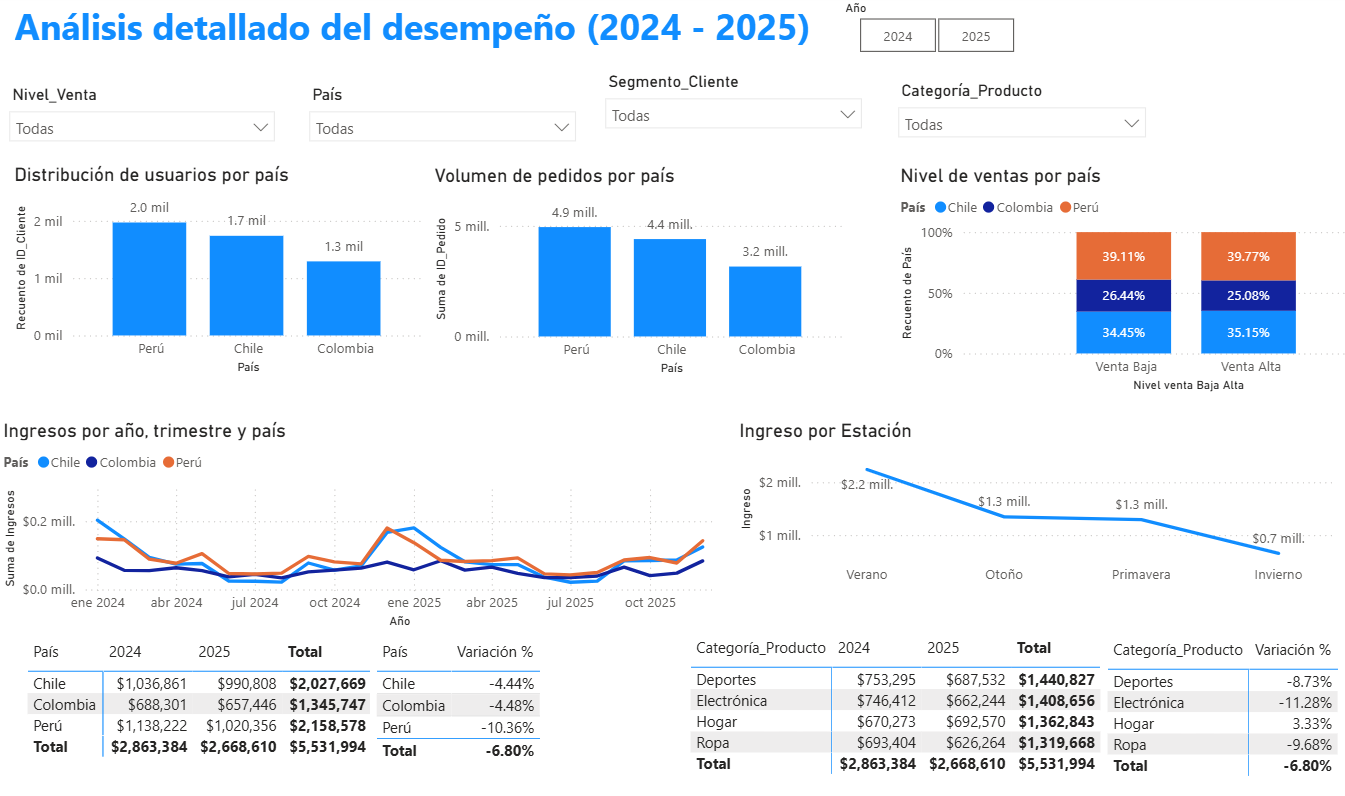

The dashboard page shown, as its layout file describes it:
{"tool":"powerbi","page":{"name":"Vista Detalle🔎","canvas":[1280,720],"ordinal":1},"visuals":[{"type":"lineChart","title":"Ingresos por año, trimestre y país","fields":{"Category":["Andes_Retail_Group_2024_2025.Fecha_Pedido.Variación.Jerarquía de fechas.Año","Andes_Retail_Group_2024_2025.Fecha_Pedido.Variación.Jerarquía de fechas.Mes"],"Y":["Sum(Andes_Retail_Group_2024_2025.Ingresos)"],"Series":["Andes_Retail_Group_2024_2025.País"]},"box":[0,379.7,659.1,191.6],"z":0},{"type":"textbox","box":[9.7,0,872.5,72.9],"z":1},{"type":"clusteredColumnChart","title":"Distribución de usuarios por país","fields":{"Category":["Andes_Retail_Group_2024_2025.País"],"Y":["CountNonNull(Andes_Retail_Group_2024_2025.ID_Cliente)"]},"box":[9.9,150.4,376.1,193.4],"z":2},{"type":"clusteredColumnChart","title":"Volumen de pedidos por país","fields":{"Category":["Andes_Retail_Group_2024_2025.País"],"Y":["Sum(Andes_Retail_Group_2024_2025.ID_Pedido)"]},"box":[386,151.3,376.1,193.4],"z":3},{"type":"hundredPercentStackedColumnChart","title":"Nivel de ventas por país","fields":{"Category":["Andes_Retail_Group_2024_2025.Nivel_Venta"],"Y":["CountNonNull(Andes_Retail_Group_2024_2025.País)"],"Series":["Andes_Retail_Group_2024_2025.País"]},"box":[803.3,151.3,469.3,208.7],"z":4},{"type":"slicer","fields":{"Values":["Andes_Retail_Group_2024_2025.País"]},"box":[268.7,76.1,258.8,65.4],"z":5},{"type":"slicer","fields":{"Values":["Andes_Retail_Group_2024_2025.Segmento_Cliente"]},"box":[533.7,64.5,249.9,69.9],"z":6},{"type":"slicer","fields":{"Values":["Andes_Retail_Group_2024_2025.Nivel_Venta"]},"box":[0,76.1,257.9,58.2],"z":7},{"type":"slicer","fields":{"Values":["Andes_Retail_Group_2024_2025.Categoría_Producto"]},"box":[796.1,72.5,241.8,58.2],"z":8},{"type":"slicer","fields":{"Values":["Andes_Retail_Group_2024_2025.Fecha_Pedido.Variación.Jerarquía de fechas.Año"]},"box":[746,0,188.1,58.2],"z":9},{"type":"pivotTable","fields":{"Columns":["Andes_Retail_Group_2024_2025.Año"],"Rows":["Andes_Retail_Group_2024_2025.País"],"Values":["Medidas.Ingreso"]},"box":[21.5,573.1,356.4,146.9],"z":10},{"type":"tableEx","fields":{"Values":["Andes_Retail_Group_2024_2025.País","Medidas.Variación %"]},"box":[333.1,573.1,173.7,134.3],"z":11},{"type":"pivotTable","fields":{"Columns":["Andes_Retail_Group_2024_2025.Año"],"Values":["Medidas.Ingreso"],"Rows":["Andes_Retail_Group_2024_2025.Categoría_Producto"]},"box":[615.2,569.6,389.6,150.4],"z":12},{"type":"pivotTable","fields":{"Rows":["Andes_Retail_Group_2024_2025.Categoría_Producto"],"Values":["Medidas.Variación %"]},"box":[988.7,571.3,238.2,136.1],"z":13},{"type":"lineChart","fields":{"Y":["Medidas.Ingreso"],"Category":["Andes_Retail_Group_2024_2025.Estación"]},"box":[659.1,379.7,541.8,157.6],"z":14}]}

Visuals, with their boxes on the page's 1280x720 design canvas (x1, y1, x2, y2). These are canvas units, not pixel positions in the 1345x796 screenshot, which may show the page scaled, cropped or inside an application window:
"Ingresos por año, trimestre y país" lineChart: (left=0, top=380, right=659, bottom=571)
textbox: (left=10, top=0, right=882, bottom=73)
"Distribución de usuarios por país" clusteredColumnChart: (left=10, top=150, right=386, bottom=344)
"Volumen de pedidos por país" clusteredColumnChart: (left=386, top=151, right=762, bottom=345)
"Nivel de ventas por país" hundredPercentStackedColumnChart: (left=803, top=151, right=1273, bottom=360)
slicer - Andes_Retail_Group_2024_2025.País: (left=269, top=76, right=528, bottom=142)
slicer - Andes_Retail_Group_2024_2025.Segmento_Cliente: (left=534, top=64, right=784, bottom=134)
slicer - Andes_Retail_Group_2024_2025.Nivel_Venta: (left=0, top=76, right=258, bottom=134)
slicer - Andes_Retail_Group_2024_2025.Categoría_Producto: (left=796, top=72, right=1038, bottom=131)
slicer - Andes_Retail_Group_2024_2025.Fecha_Pedido.Variación.Jerarquía de fechas.Año: (left=746, top=0, right=934, bottom=58)
pivotTable - Andes_Retail_Group_2024_2025.Año x Andes_Retail_Group_2024_2025.País: (left=22, top=573, right=378, bottom=720)
tableEx - Andes_Retail_Group_2024_2025.País x Medidas.Variación %: (left=333, top=573, right=507, bottom=707)
pivotTable - Andes_Retail_Group_2024_2025.Año x Medidas.Ingreso: (left=615, top=570, right=1005, bottom=720)
pivotTable - Andes_Retail_Group_2024_2025.Categoría_Producto x Medidas.Variación %: (left=989, top=571, right=1227, bottom=707)
lineChart - Medidas.Ingreso x Andes_Retail_Group_2024_2025.Estación: (left=659, top=380, right=1201, bottom=537)
